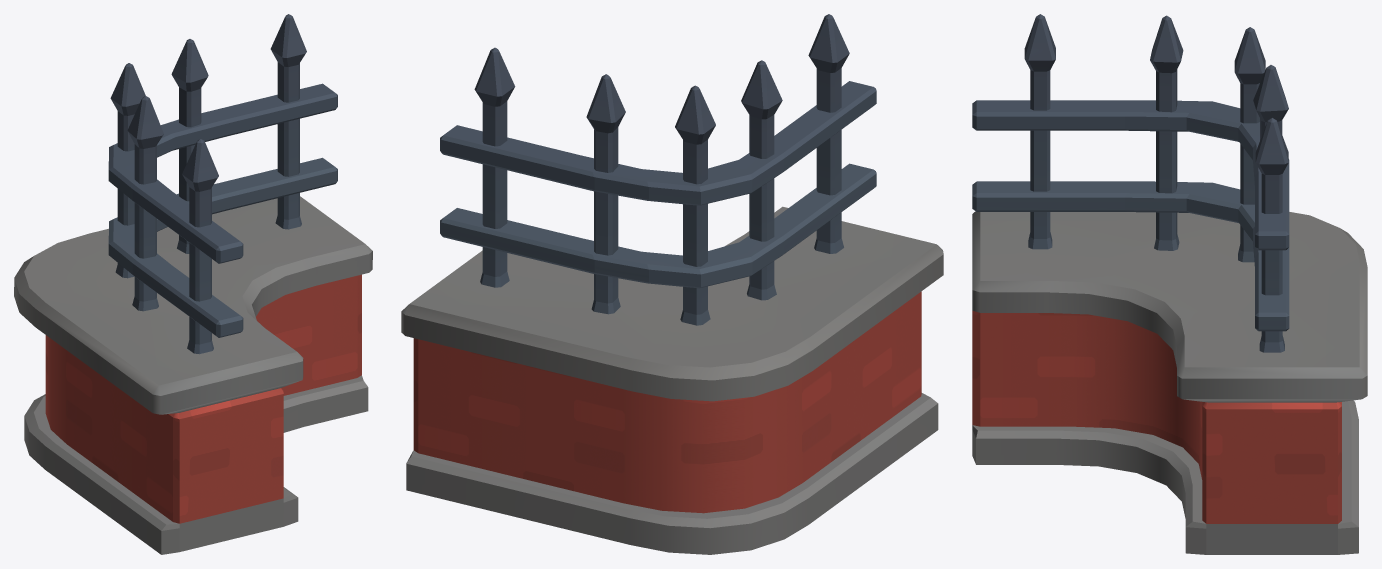
Rendered from BrickWall_5_1.fbx.
3 renders of one model, left to right at view 1: azimuth 30°, elevation 25°; view 2: azimuth 150°, elevation 25°; view 3: azimuth 270°, elevation 25°, orthographic. The views are drawn at different scales.
Visible parts, largest first — view 1: BrickWall_5_1; view 2: BrickWall_5_1; view 3: BrickWall_5_1.
Part boxes in pixels (x1,y1,x2,y2): BrickWall_5_1: (14,14,372,554); BrickWall_5_1: (401,14,943,554); BrickWall_5_1: (972,14,1367,554).
Bounding box in the file's own units: 132 × 152 × 132.
